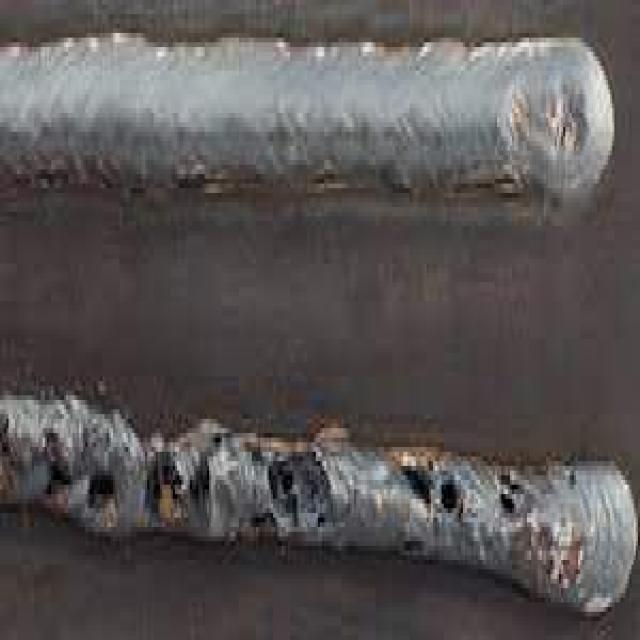Porosity: (255, 456, 298, 510), (492, 474, 532, 523), (400, 464, 435, 513), (148, 460, 178, 506), (85, 472, 118, 508), (439, 479, 464, 512)
